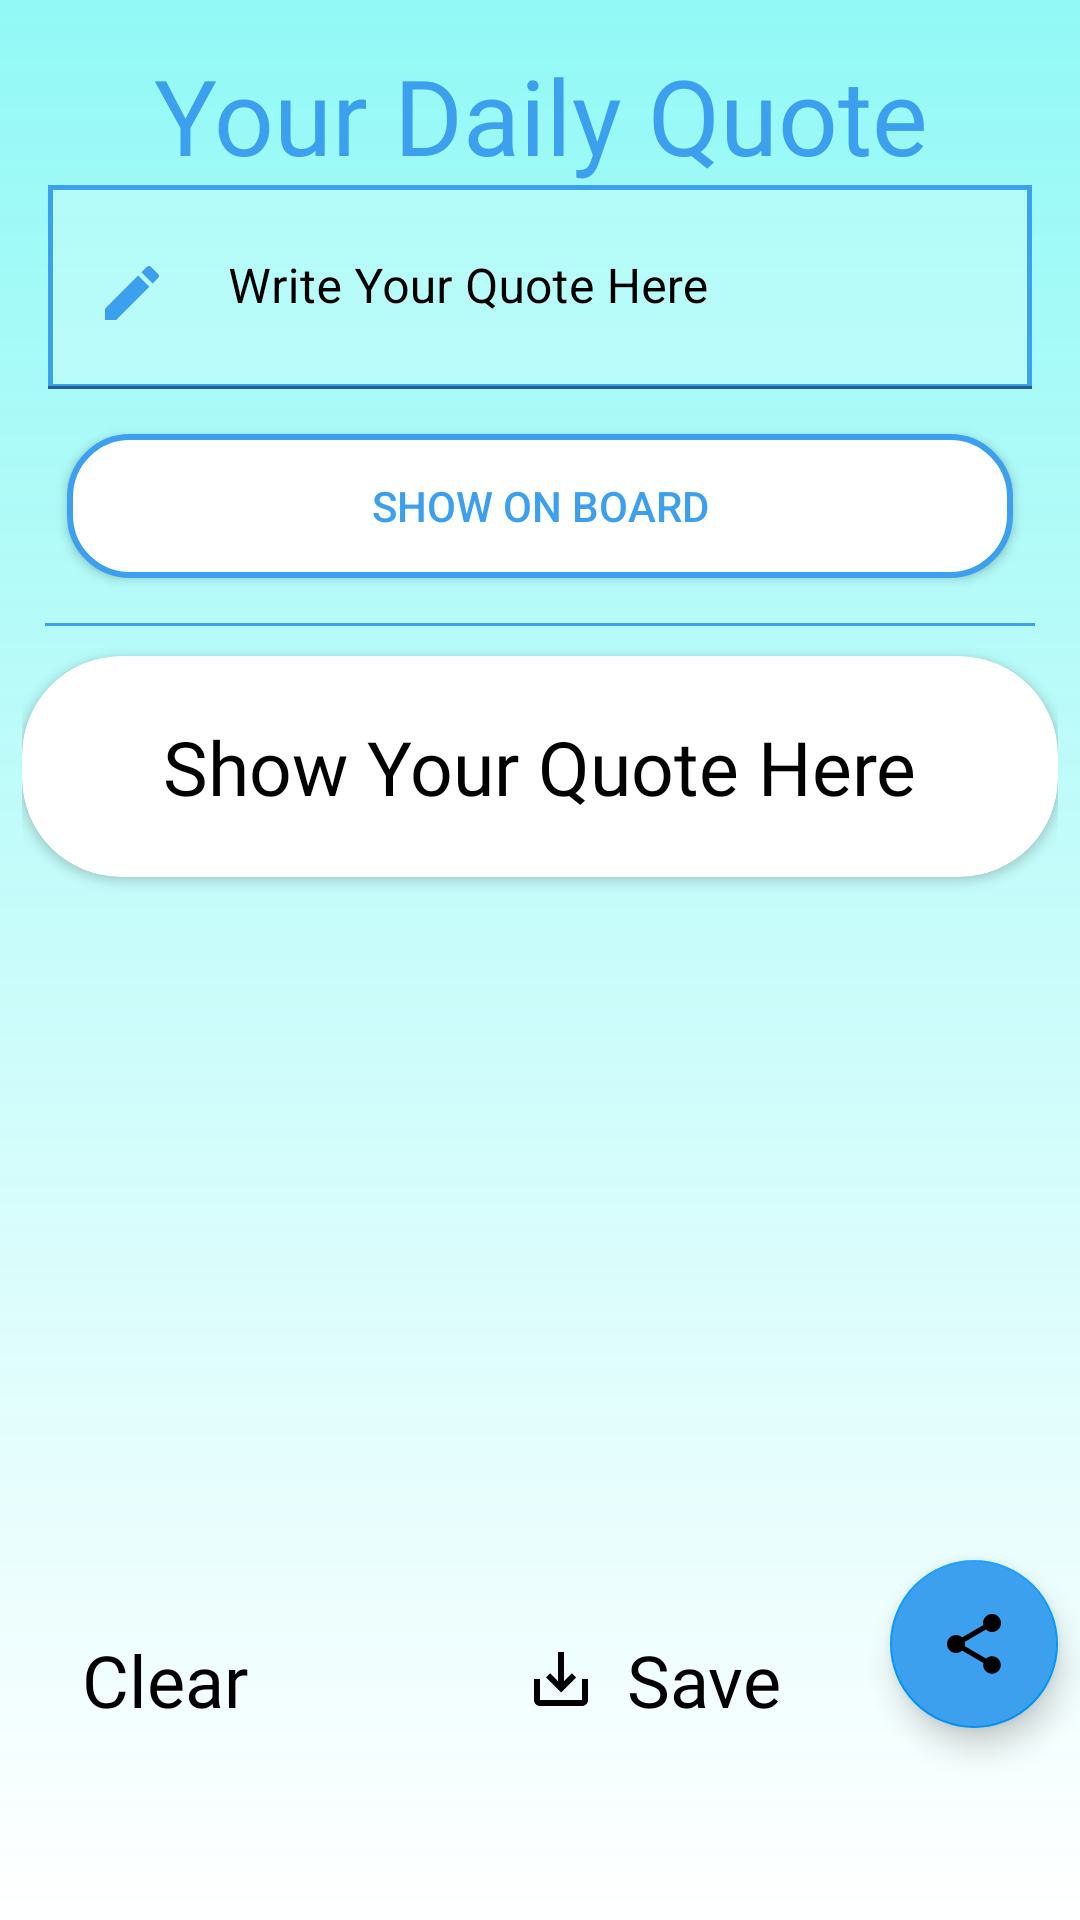

Icon bounding boxes for this 1080 × 1920 phone screenshot, format [x1=x1, y1=y1, x2=x2, y2=y2]:
share: [x1=890, y1=1560, x2=1058, y2=1728]
